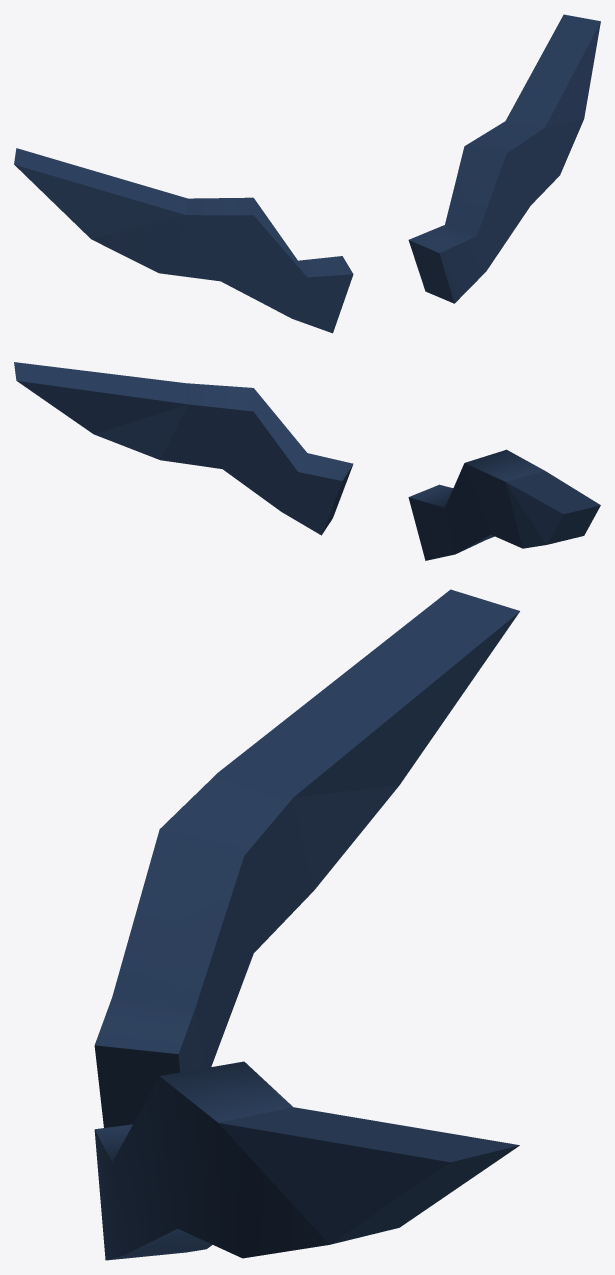
File: Brow_Blue_11.fbx
3 views of the same model, one above another, from view 1: azimuth 30°, elevation 25°; view 2: azimuth 150°, elevation 25°; view 3: azimuth 270°, elevation 25° (orthographic). The views are drawn at different scales.
Visible parts, largest first — view 1: Brow_Blue_11; view 2: Brow_Blue_11; view 3: Brow_Blue_11.
Part boxes in pixels (x1,y1,x2,y2): Brow_Blue_11: (14,14,600,333); Brow_Blue_11: (14,362,600,560); Brow_Blue_11: (94,589,519,1260).
Bounding box in the file's own units: 51.57 × 13.68 × 16.2.
